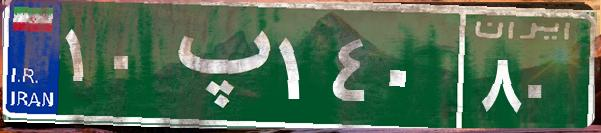0: (385, 28, 445, 110), (110, 28, 158, 105), (525, 38, 570, 115)
1: (273, 28, 330, 110), (57, 26, 110, 107)
4: (330, 28, 385, 110)
8: (475, 38, 525, 113)
پ: (158, 15, 273, 115)
